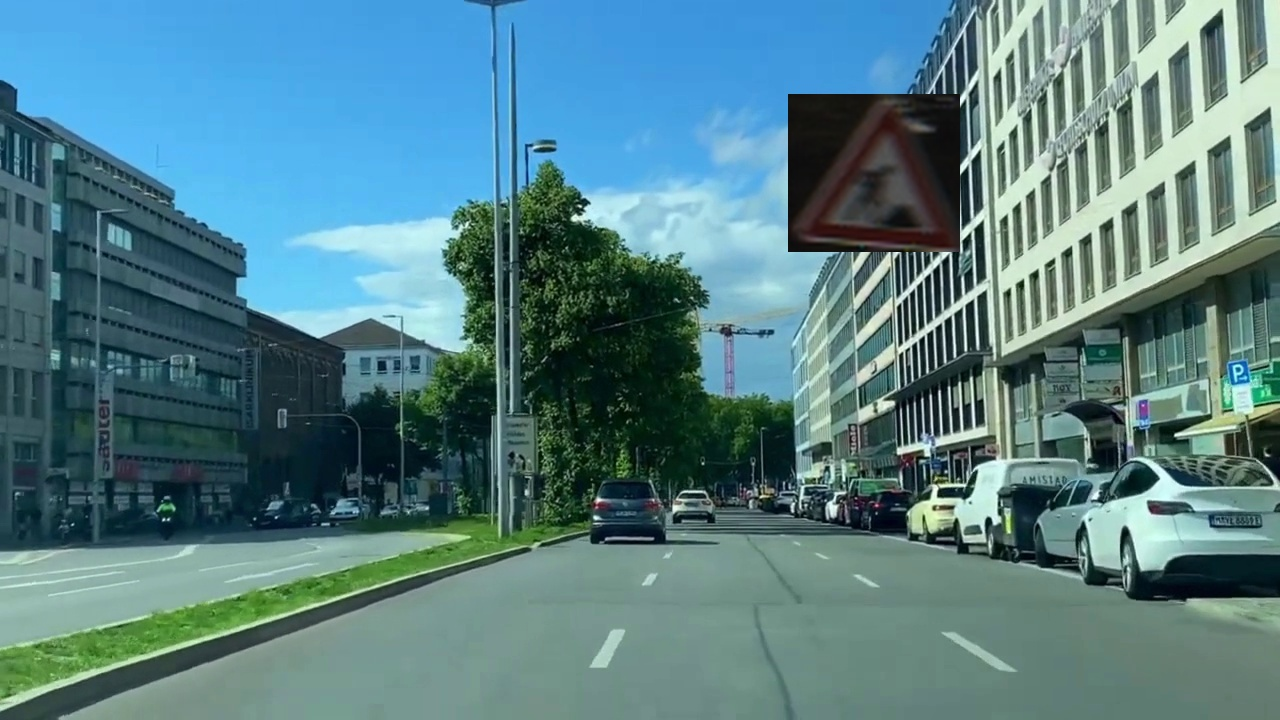Road work: (788, 94, 960, 252)
